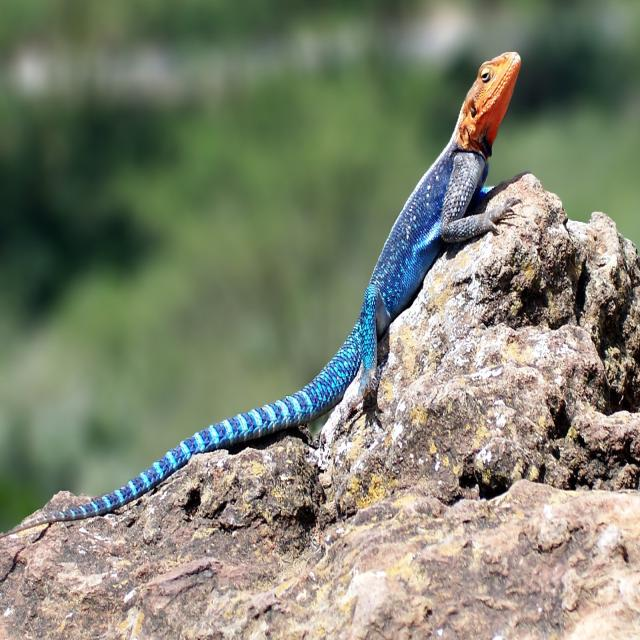Lizard: (46, 41, 526, 531)
